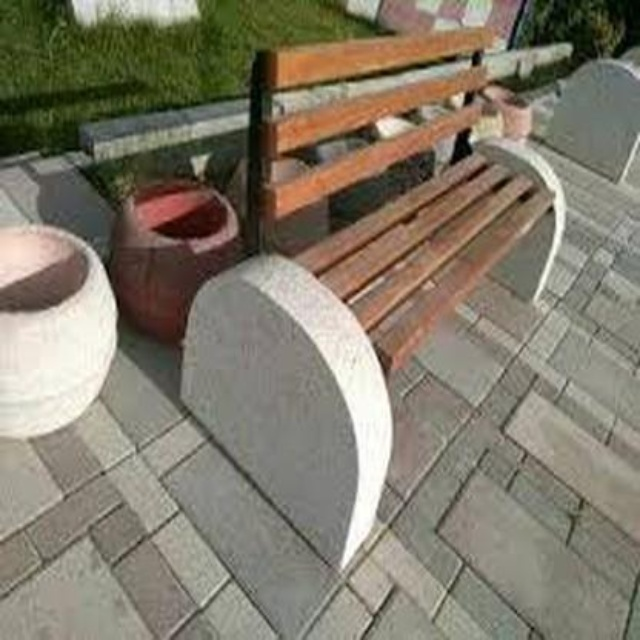obstacle: (229, 29, 566, 535)
